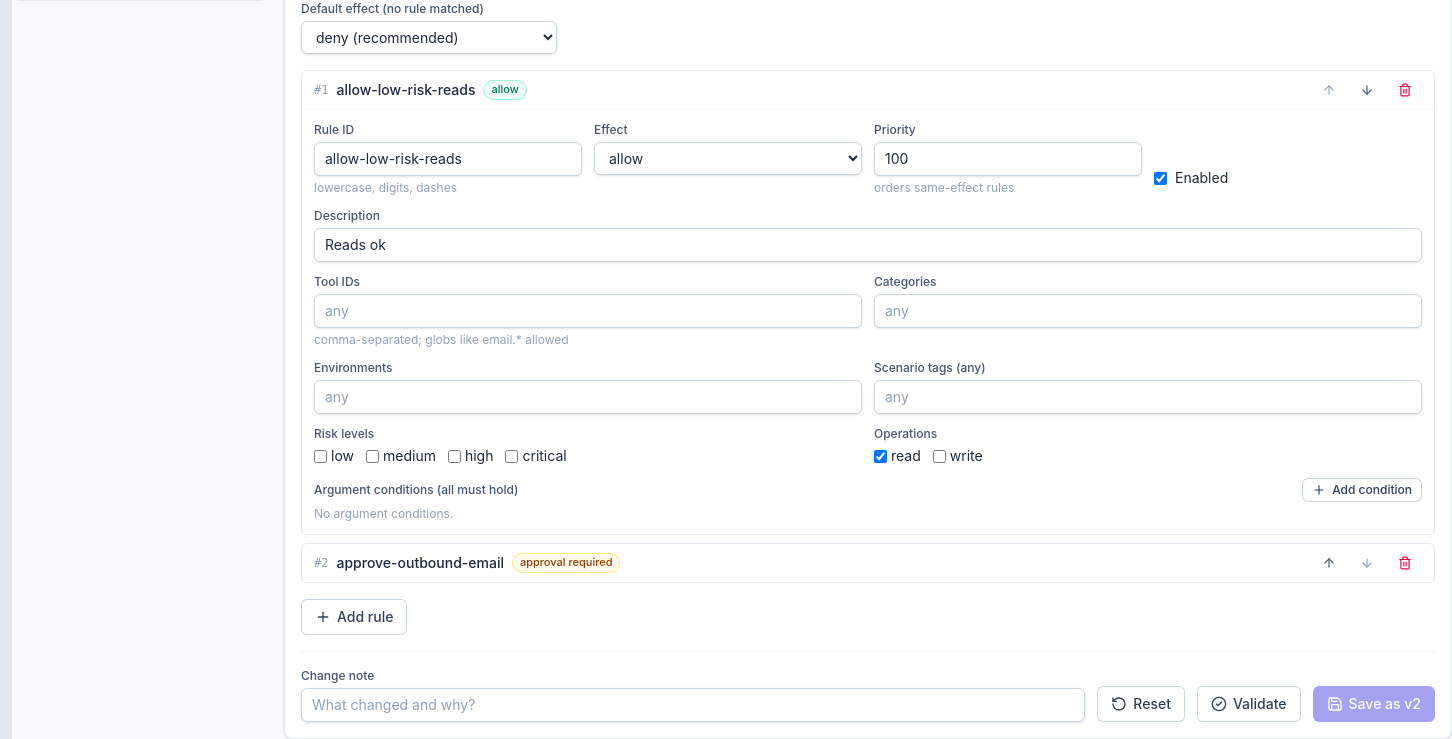
it: Policy editor › shows the conflict when someone else saved first
(page scrolled)
Type "x" into the field labelled "Change note" at [693, 705], box [301,688,1085,722]
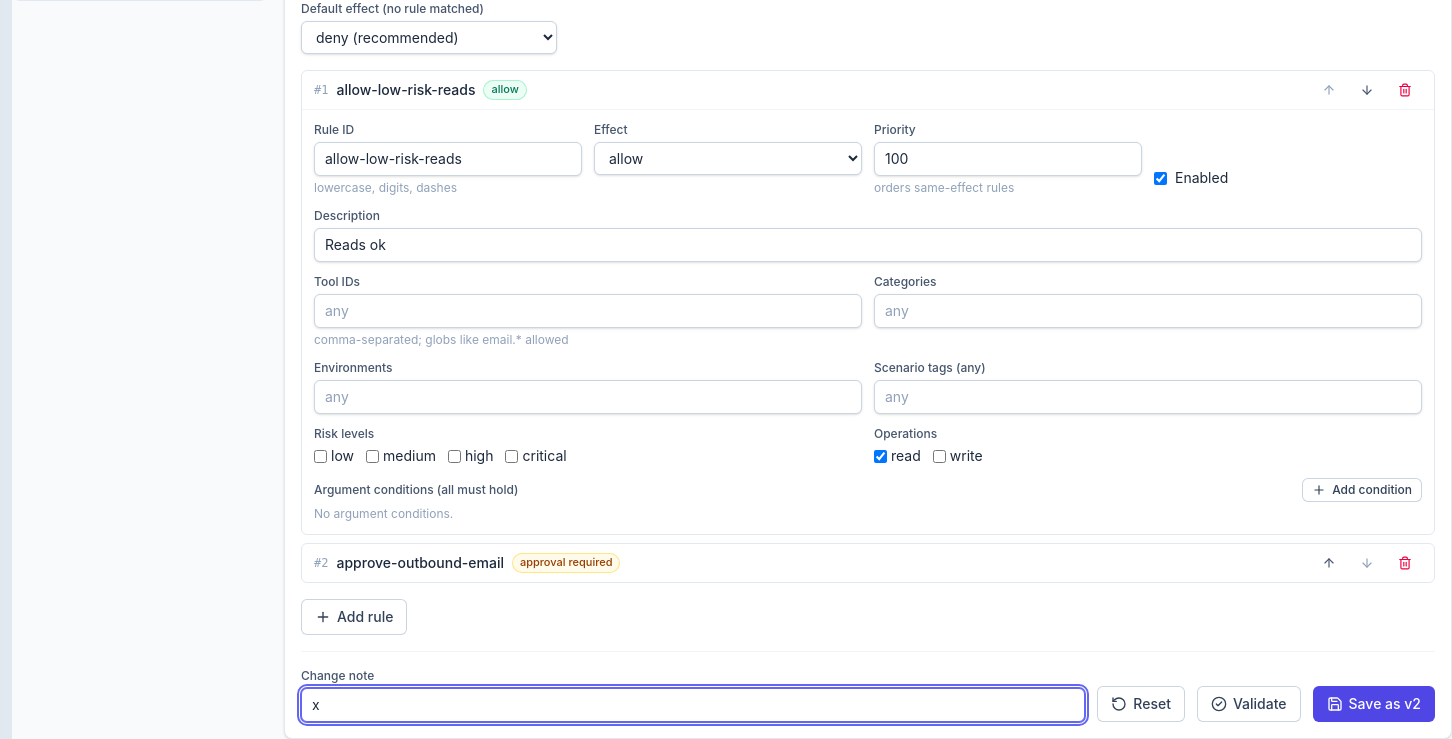
Click the button "Save as v2" at [1374, 704], box [1313,686,1435,722]
(page scrolled)
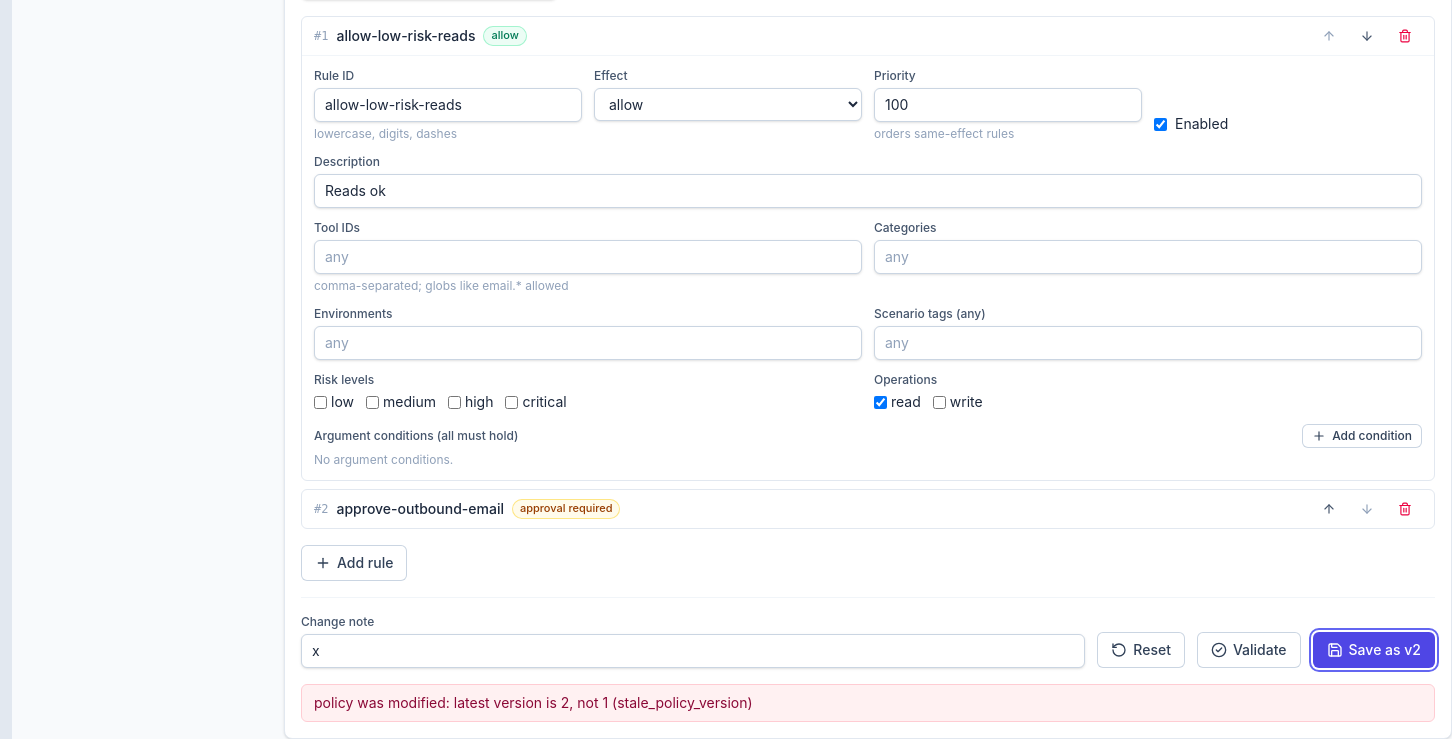
Check: the text "policy was modified: latest version is 2, not 1 (stale_policy_version)" is shown, box [301,684,1435,722]
